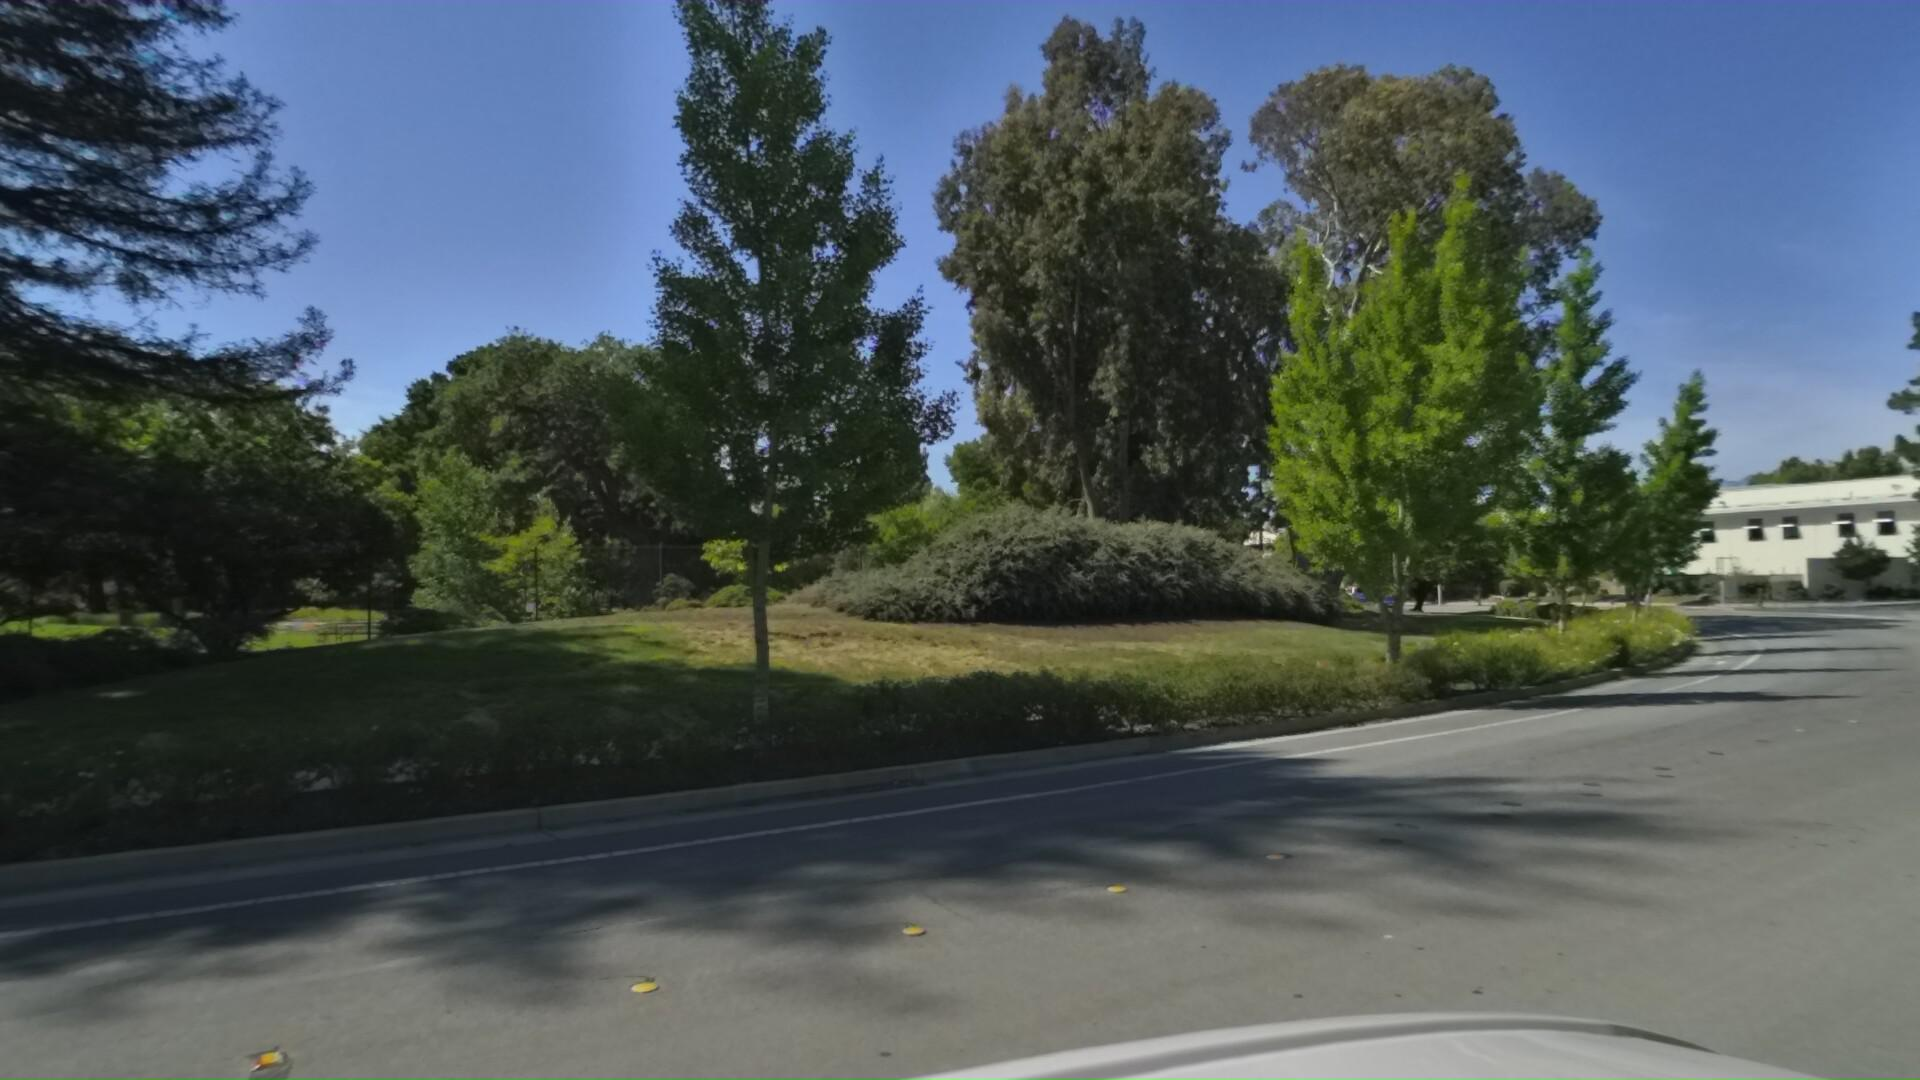car: (1354, 588, 1406, 608)
